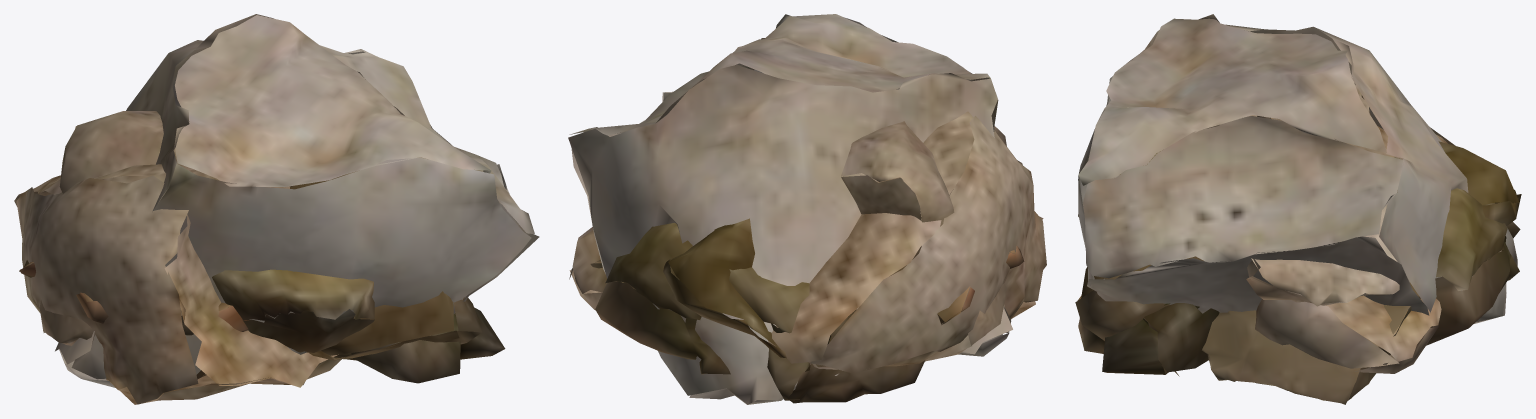
File: stone.glb
The picture shows the model from 3 angles, left to right: view 1: azimuth 30°, elevation 25°; view 2: azimuth 150°, elevation 25°; view 3: azimuth 270°, elevation 25°; orthographic projection. The views are drawn at different scales.
Parts seen in each view (by area): view 1: v2_lod0, v3_lod0, v6_lod0, v0_lod0, v4_lod0, v5_lod0, v1_lod0; view 2: v2_lod0, v3_lod0, v6_lod0, v0_lod0, v4_lod0, v5_lod0, v1_lod0; view 3: v2_lod0, v3_lod0, v1_lod0, v6_lod0, v5_lod0, v4_lod0, v0_lod0.
Part boxes in pixels (<box>): v2_lod0: <box>55,14,539,387</box>; v3_lod0: <box>14,157,341,404</box>; v6_lod0: <box>212,269,374,352</box>; v0_lod0: <box>39,111,427,345</box>; v4_lod0: <box>196,171,481,379</box>; v5_lod0: <box>334,307,505,383</box>; v1_lod0: <box>19,260,248,335</box>; v2_lod0: <box>568,14,1012,404</box>; v3_lod0: <box>569,111,1046,373</box>; v6_lod0: <box>595,223,856,374</box>; v0_lod0: <box>841,121,1006,361</box>; v4_lod0: <box>663,218,831,371</box>; v5_lod0: <box>767,349,925,403</box>; v1_lod0: <box>590,246,1024,324</box>; v2_lod0: <box>1078,14,1517,323</box>; v3_lod0: <box>1206,115,1455,373</box>; v1_lod0: <box>1201,283,1420,404</box>; v6_lod0: <box>1078,151,1519,345</box>; v5_lod0: <box>1078,157,1520,376</box>; v4_lod0: <box>1075,141,1521,340</box>; v0_lod0: <box>1246,85,1409,306</box>.
Size of what is drawn, in the model's own units: 1 by 0.6991 by 1.01.
Materials: 2 (2 with a texture image).
